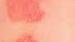plaque psoriasis: (4, 0, 49, 25), (0, 34, 71, 42)
